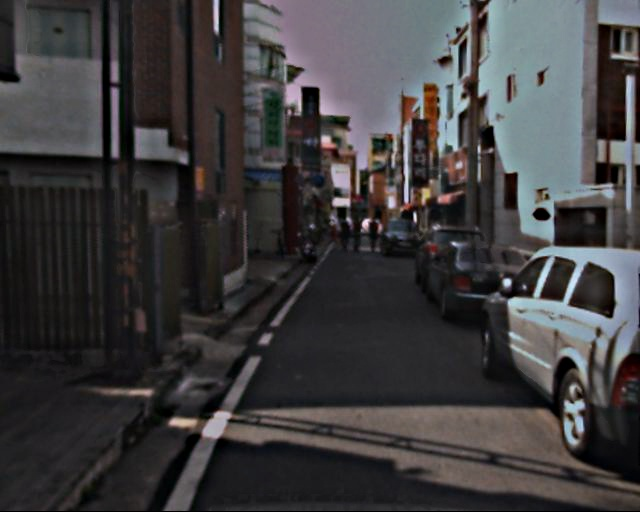person: (365, 216, 382, 258), (350, 217, 366, 255), (336, 219, 351, 256)
